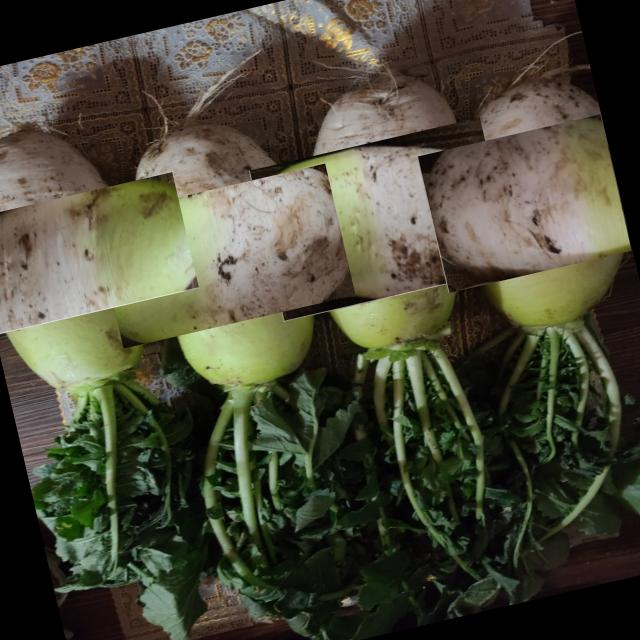radish: (264, 101, 499, 336), (112, 144, 336, 368), (434, 92, 637, 309), (0, 148, 175, 364)
